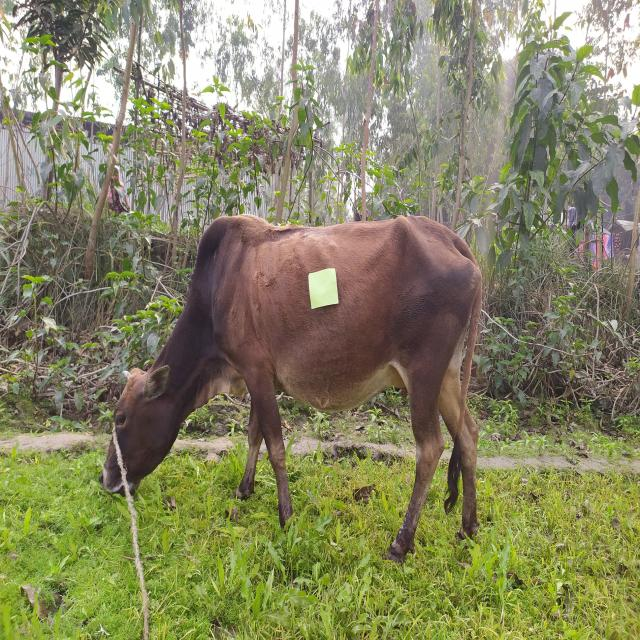badan_sapi: (233, 213, 477, 418)
sapi: (98, 209, 489, 560)
